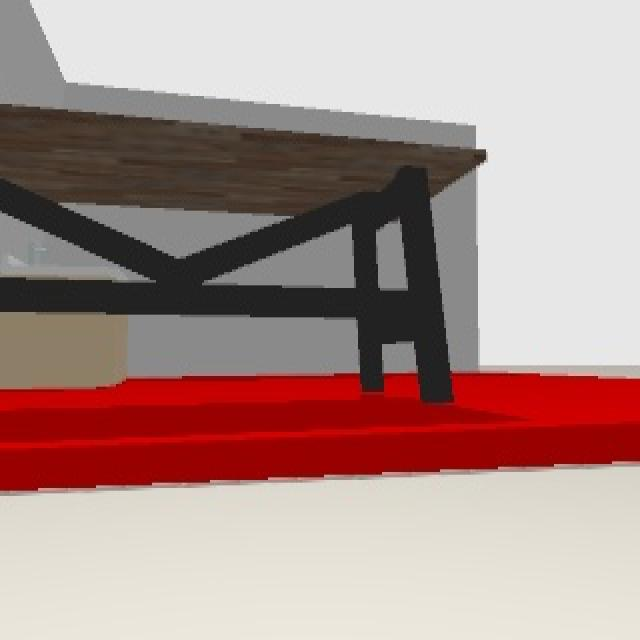dining: (3, 99, 485, 402)
